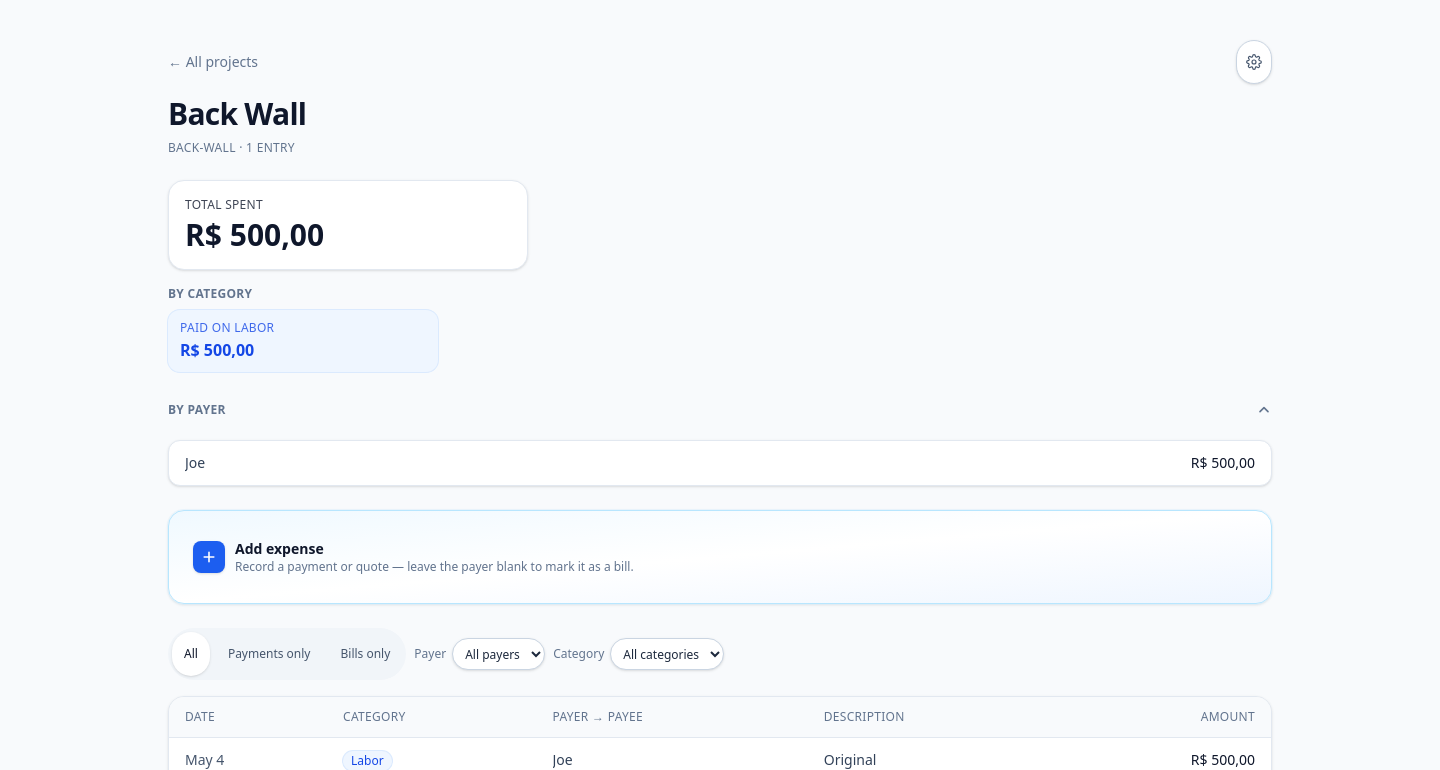
Test: review regressions › B1: a stale tab cannot rename and then overwrite another tab’s save
Click the button named "Project settings": (1254, 62) [1236,40,1272,84]
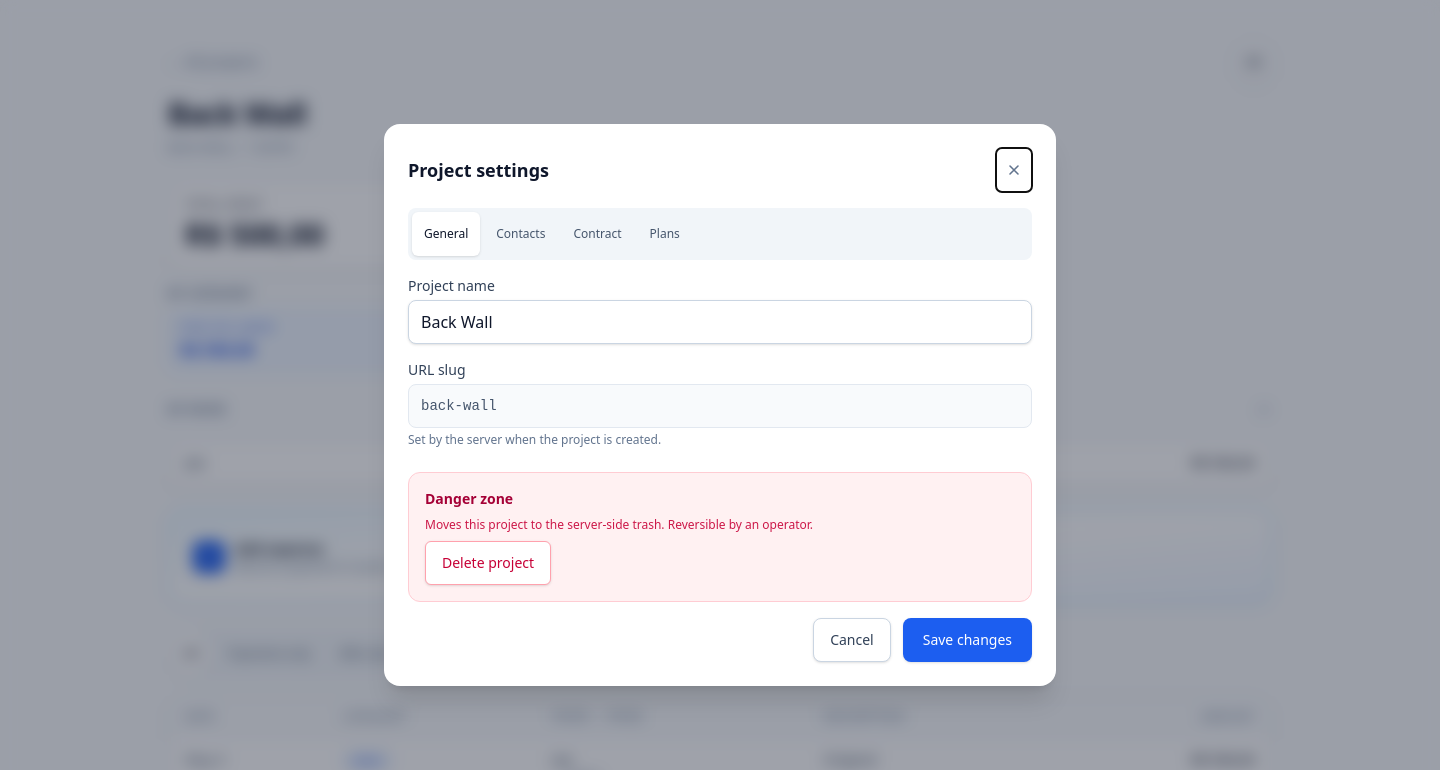
Replace the text in the field labelled "Project name" with "Tab A draft": (720, 322) [408,300,1032,344]
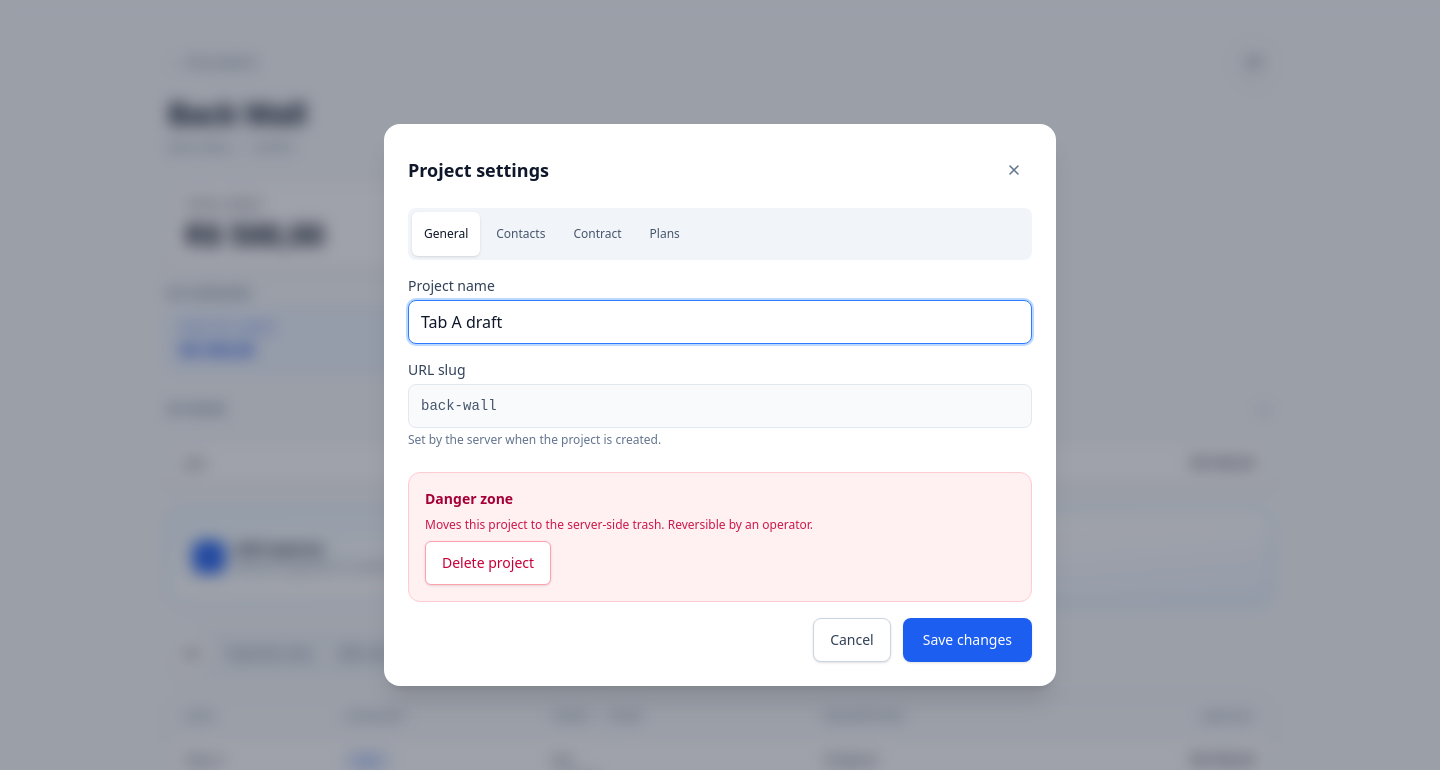
// The blocked session must not issue another rename, either.
Click the button "Save changes": (967, 640) [903,618,1032,662]
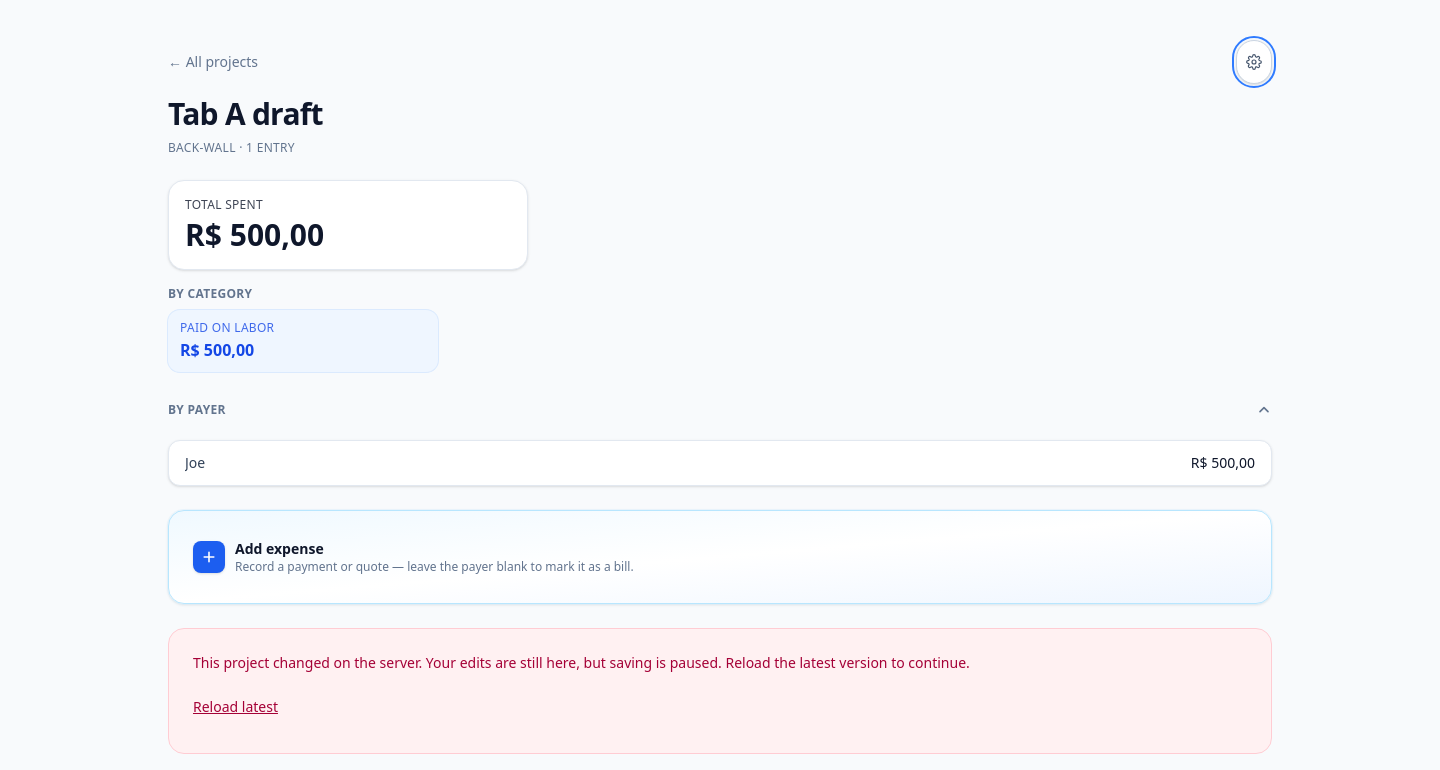
Now the button "Reload latest" is shown, box [193,685,278,729]
Now the message shows "saving is paused", box [193,653,970,672]
Now the dialog is gone
Click the button named "Project settings": (1254, 62) [1236,40,1272,84]
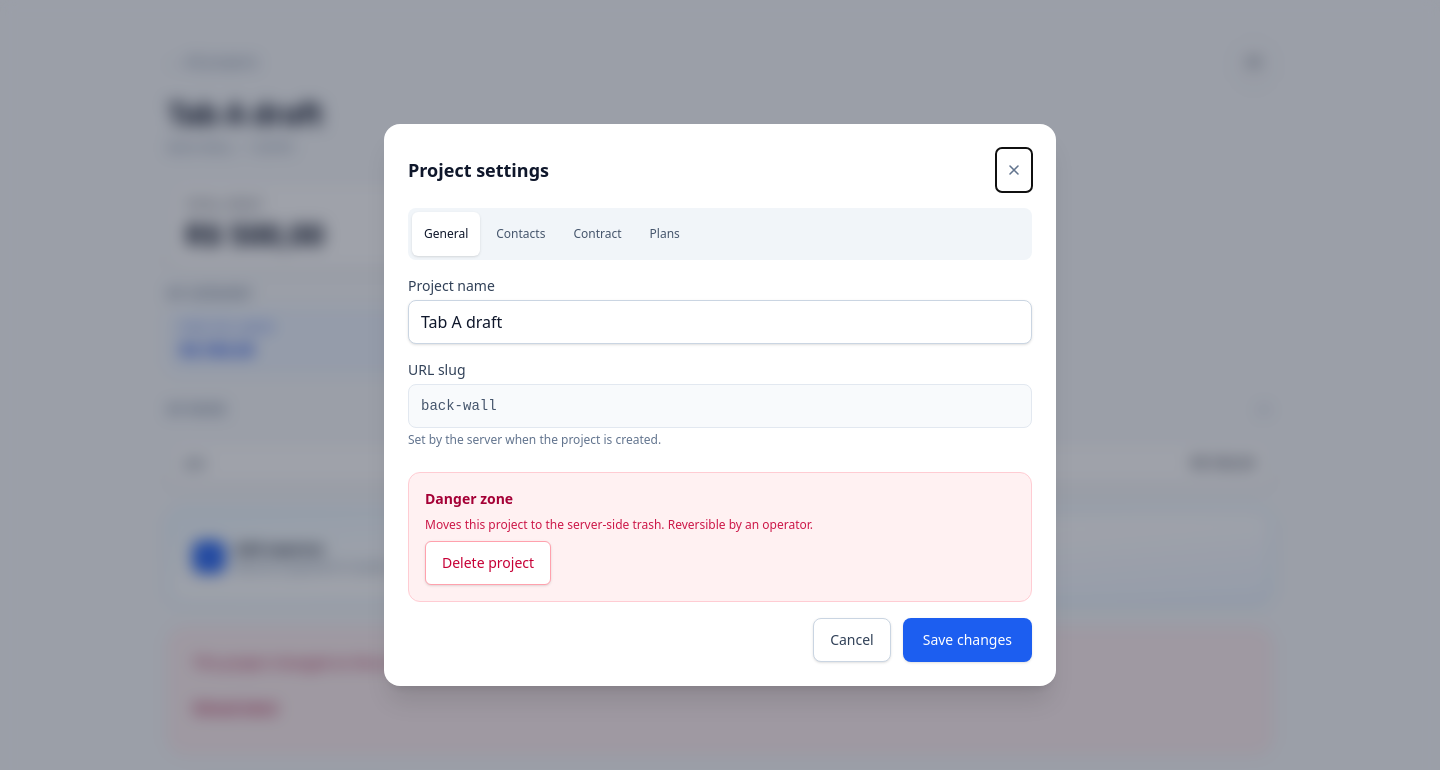
In the field labelled "Project name": (720, 322) [408,300,1032,344], type " retry"
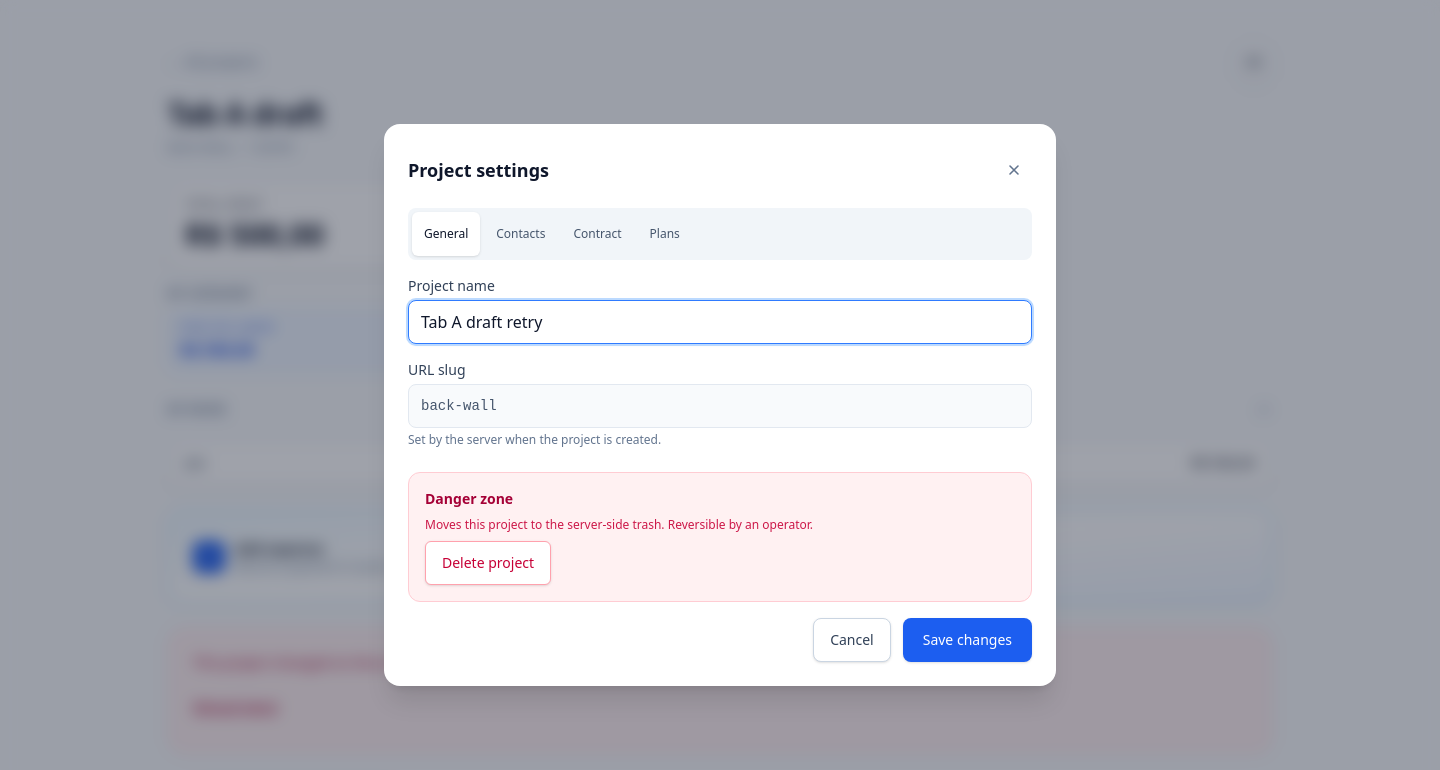
Click the button "Save changes": (967, 640) [903,618,1032,662]
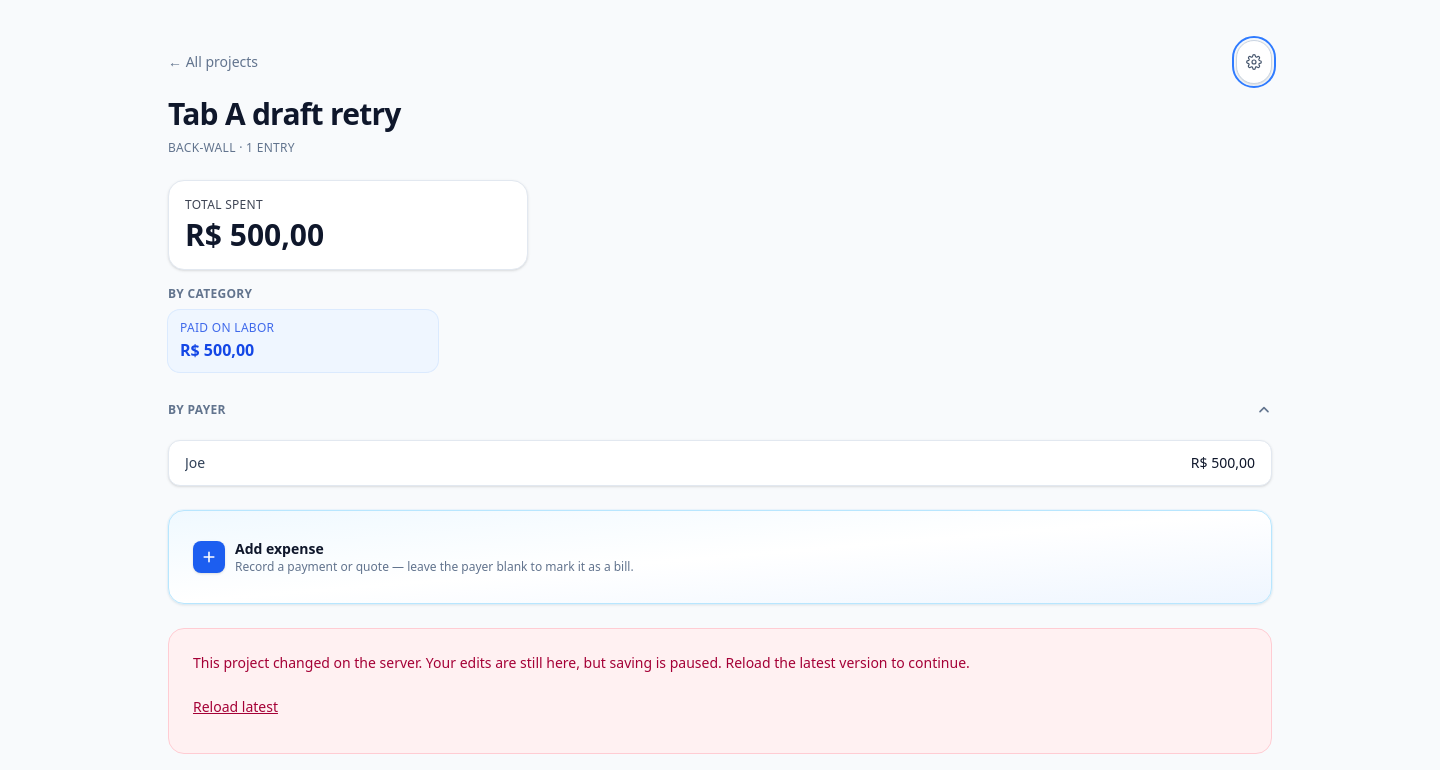
Now the dialog is gone
